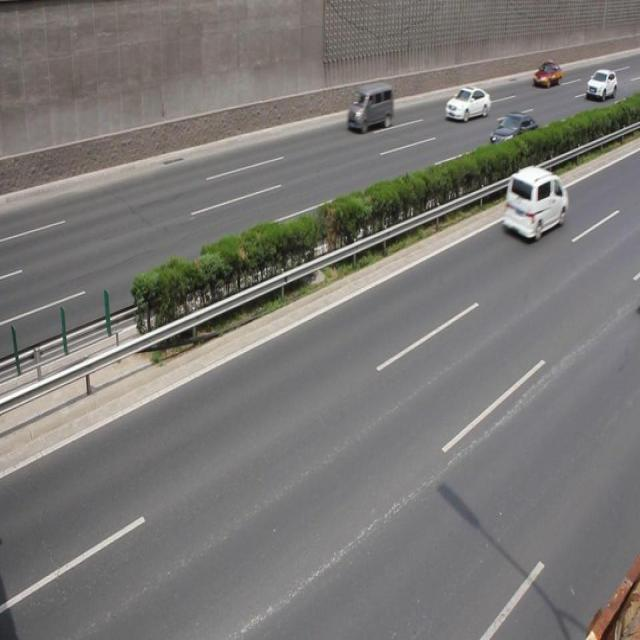car: (502, 163, 567, 240), (489, 109, 540, 156), (444, 84, 489, 122), (584, 67, 615, 99), (532, 60, 561, 88)
truck: (346, 80, 393, 130)
